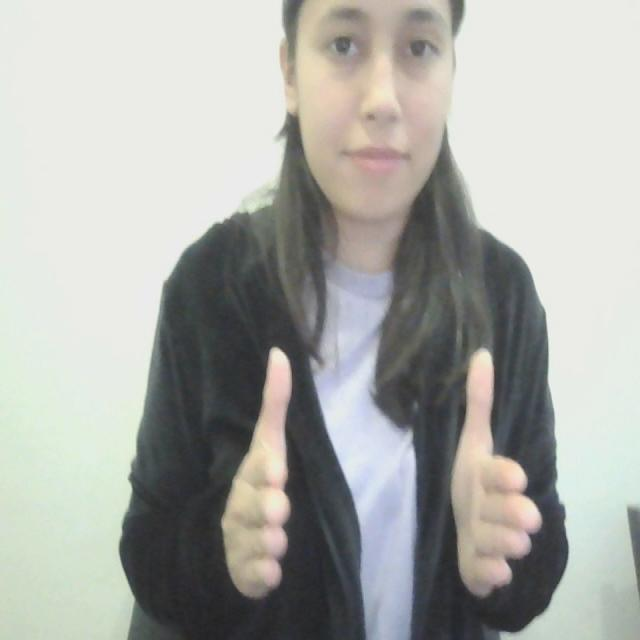Nasil: (199, 326, 549, 617)
